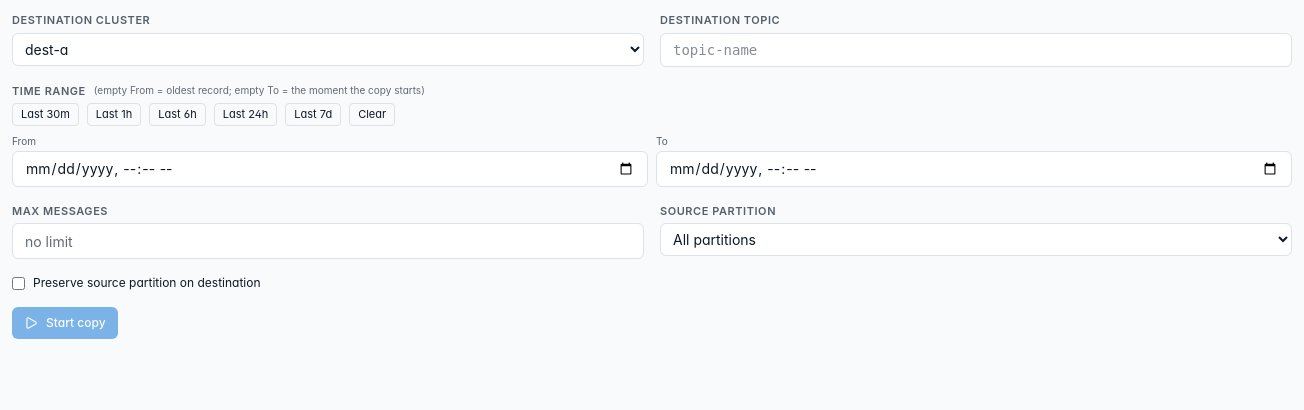
it: BulkCopyPanel errors › renders a human-readable message when the server rate-limits the copy
The width and height of the screenshot is (1304, 410).
Type "dest-topic" into the field with placeholder "topic-name" at (976, 50), box [660, 32, 1292, 66]
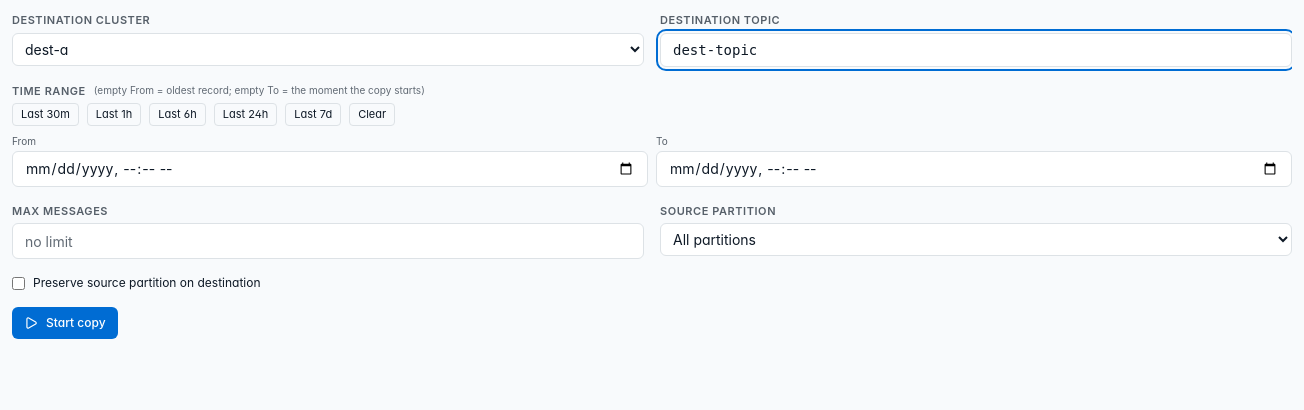
Click the button "Start copy" at (65, 323), box [12, 307, 118, 339]
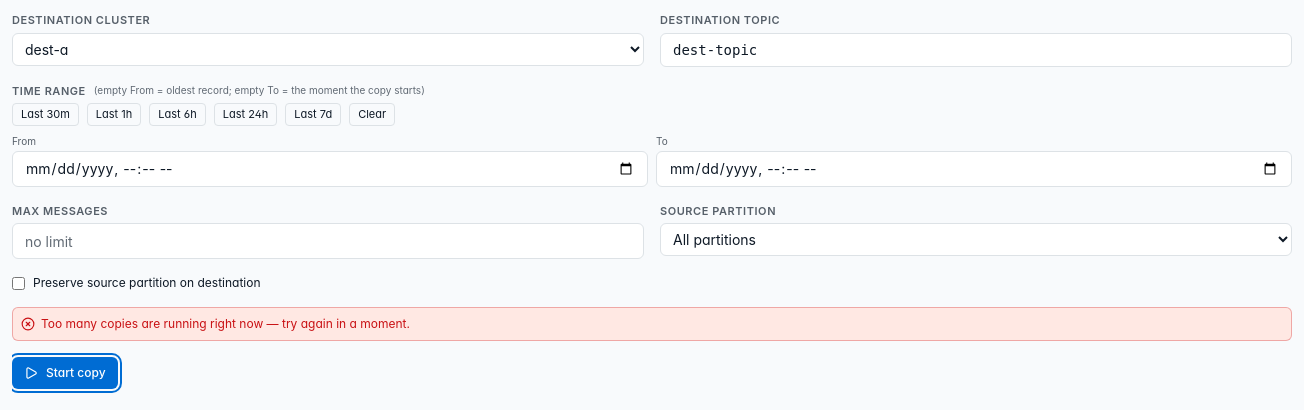
Now the text "Too many copies are running right now" is shown, box [41, 316, 410, 331]
